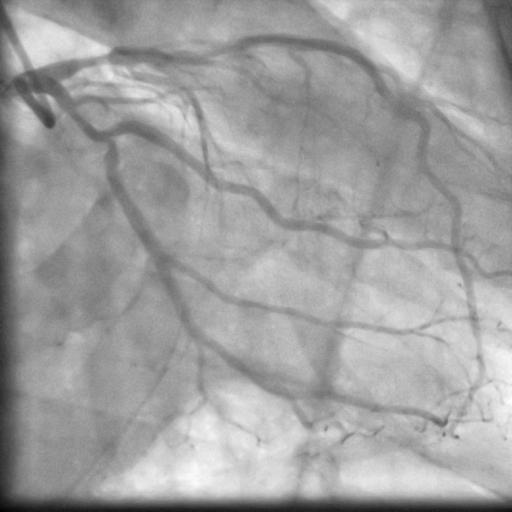Stenosis: (186, 36, 236, 58)
